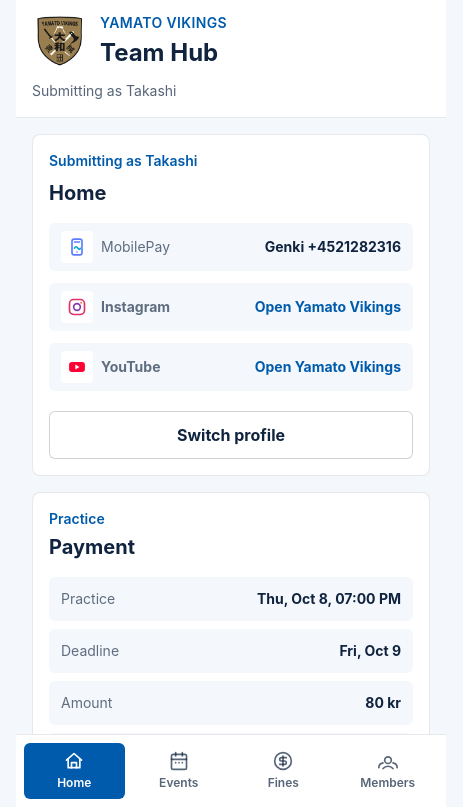
Test: App shell › lets an admin edit a member football level
expect the heading "Home" is shown: met, box [49, 181, 106, 205]
Click the link "Members" at (388, 770), box [360, 751, 415, 790]
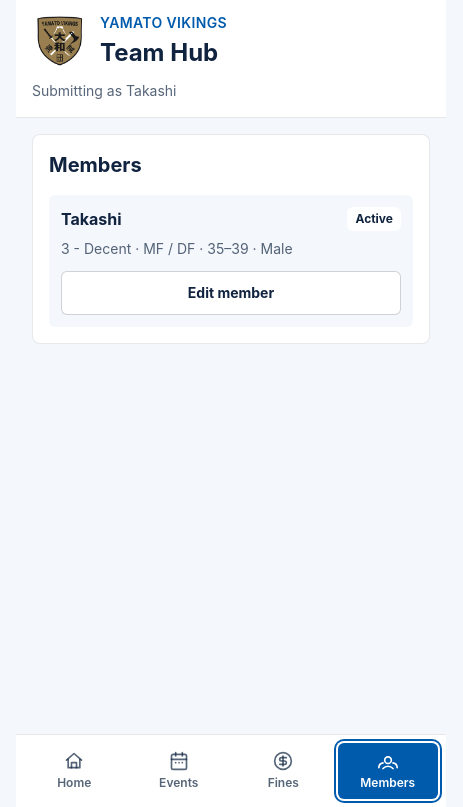
expect the heading "Members" is shown: met, box [49, 153, 142, 177]
Click the button "Edit member" at (231, 293), box [61, 271, 401, 315]
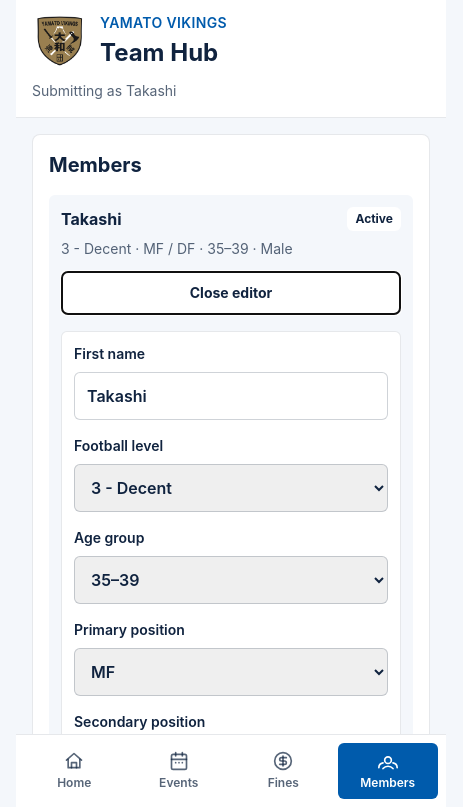
Select "4 - High level" in the dropdown labelled "Football level" at (231, 488), box [74, 464, 388, 512]
(page scrolled)
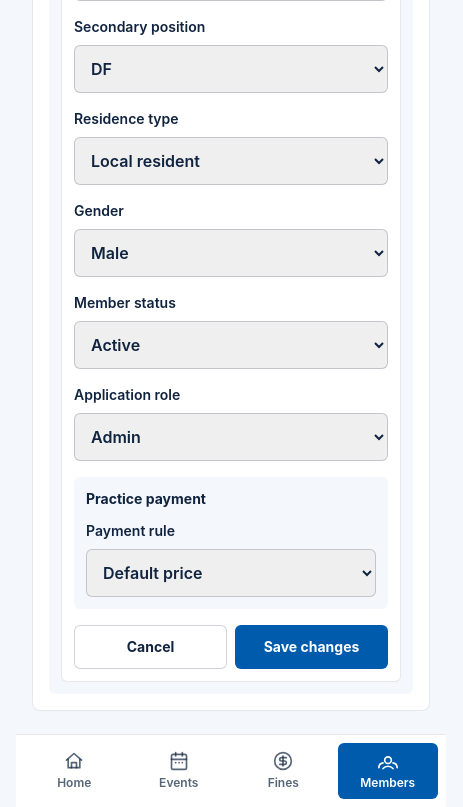
Click the button "Save changes" at (312, 647), box [235, 625, 388, 669]
(page scrolled)
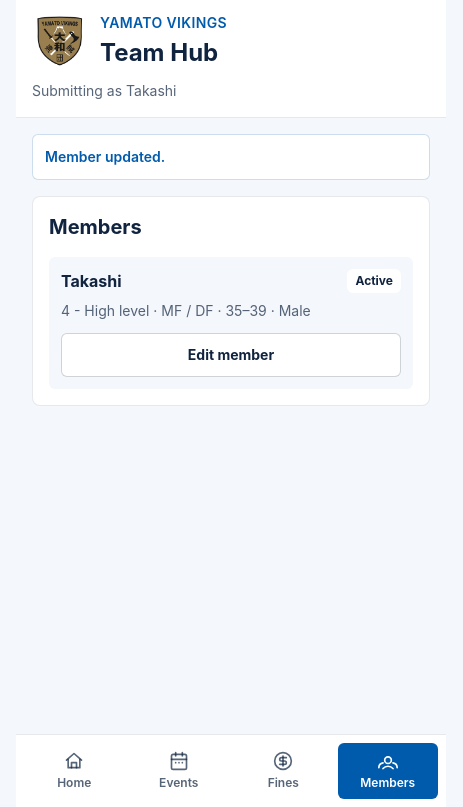
expect the text "Member updated." is shown: met, box [32, 134, 430, 180]
expect the text "4 - High level · MF / DF · 35–39 · Male" is shown: met, box [61, 302, 311, 319]
